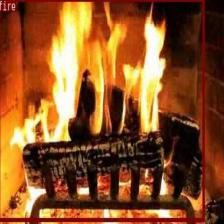fire: (0, 0, 203, 220)
